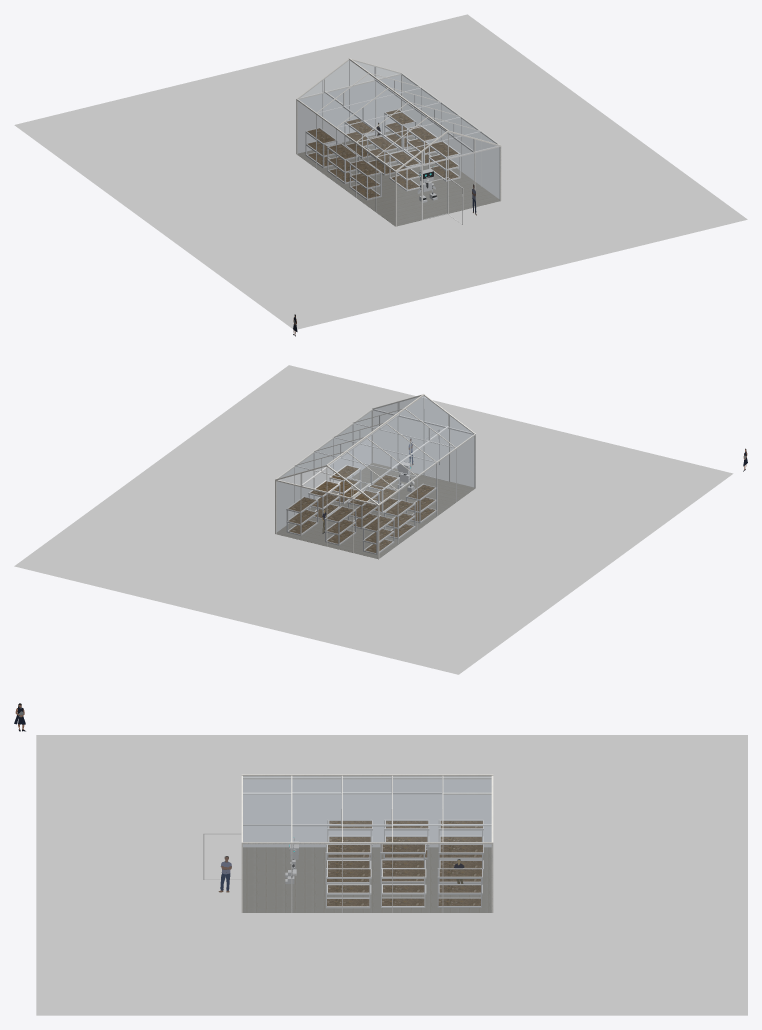
File: greenhouse.obj
The picture shows the model from 3 angles, top to bottom: view 1: azimuth 30°, elevation 25°; view 2: azimuth 150°, elevation 25°; view 3: azimuth 270°, elevation 25°; orthographic projection. The views are drawn at different scales.
Visible parts, largest first — view 1: Mesh315 Model, Mesh85 Group92 Group68 Model, Mesh276 Group286 Group258 Model, Mesh31 Group30 Model, Mesh1 Group1 Model, Mesh244 Group259 Group258 Model, Mesh243 Group257 Model, Mesh30 Group30 Model, Mesh29 Group30 Model; view 2: Mesh315 Model, Mesh85 Group92 Group68 Model, Mesh244 Group259 Group258 Model, Mesh31 Group30 Model, Mesh1 Group1 Model, Mesh276 Group286 Group258 Model, Mesh243 Group257 Model, Mesh30 Group30 Model, Mesh29 Group30 Model; view 3: Mesh315 Model, Mesh243 Group257 Model, Mesh30 Group30 Model, Mesh31 Group30 Model, Mesh1 Group1 Model, Mesh69 Group69 Group68 Model, Mesh6 Group6 Model, Mesh28 Group29 Model.
Boxes of the visible parts, bbox=[...] form: Mesh315 Model: bbox=[14, 14, 747, 329]; Mesh85 Group92 Group68 Model: bbox=[298, 60, 445, 169]; Mesh276 Group286 Group258 Model: bbox=[397, 147, 500, 225]; Mesh31 Group30 Model: bbox=[297, 101, 394, 225]; Mesh1 Group1 Model: bbox=[297, 131, 500, 226]; Mesh244 Group259 Group258 Model: bbox=[298, 75, 400, 152]; Mesh243 Group257 Model: bbox=[403, 76, 498, 197]; Mesh30 Group30 Model: bbox=[355, 61, 497, 143]; Mesh29 Group30 Model: bbox=[400, 132, 499, 169]; Mesh315 Model: bbox=[14, 365, 733, 674]; Mesh85 Group92 Group68 Model: bbox=[329, 396, 473, 503]; Mesh244 Group259 Group258 Model: bbox=[276, 482, 377, 557]; Mesh31 Group30 Model: bbox=[379, 434, 475, 557]; Mesh1 Group1 Model: bbox=[276, 463, 475, 559]; Mesh276 Group286 Group258 Model: bbox=[374, 411, 473, 486]; Mesh243 Group257 Model: bbox=[277, 412, 370, 531]; Mesh30 Group30 Model: bbox=[279, 396, 419, 477]; Mesh29 Group30 Model: bbox=[378, 397, 469, 431]; Mesh315 Model: bbox=[36, 735, 747, 1015]; Mesh243 Group257 Model: bbox=[243, 843, 492, 912]; Mesh30 Group30 Model: bbox=[243, 776, 491, 841]; Mesh31 Group30 Model: bbox=[243, 780, 490, 846]; Mesh1 Group1 Model: bbox=[243, 847, 491, 912]; Mesh69 Group69 Group68 Model: bbox=[241, 774, 493, 776]; Mesh6 Group6 Model: bbox=[243, 842, 491, 844]; Mesh28 Group29 Model: bbox=[243, 777, 491, 779].
Size of the model in its own units: 34.73 by 6.04 by 37.89.
Materials: 49 (3 with a texture image).
